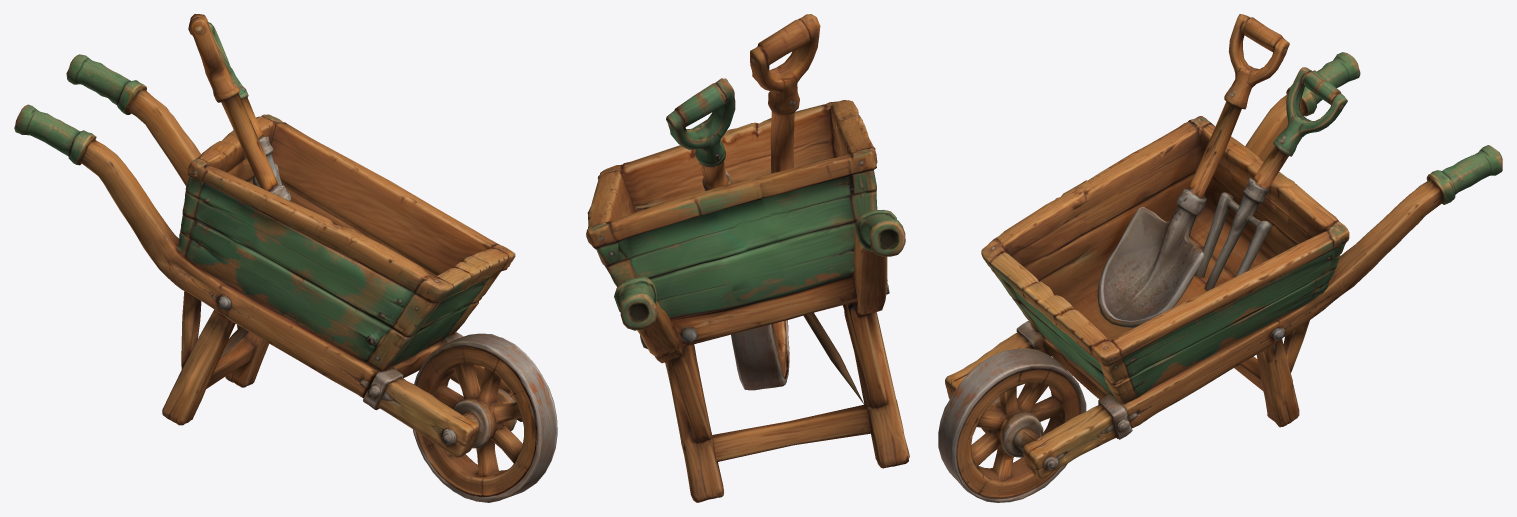
File: wheelbarrow.glb
The picture shows the model from 3 angles, left to right: view 1: azimuth 30°, elevation 25°; view 2: azimuth 150°, elevation 25°; view 3: azimuth 270°, elevation 25°; orthographic projection. The views are drawn at different scales.
Parts seen in each view (by area): view 1: tripo_node_cbbd5e0f-94f7-49c4-be6d-c32b477027c8; view 2: tripo_node_cbbd5e0f-94f7-49c4-be6d-c32b477027c8; view 3: tripo_node_cbbd5e0f-94f7-49c4-be6d-c32b477027c8.
Part boxes in pixels (x1=…): tripo_node_cbbd5e0f-94f7-49c4-be6d-c32b477027c8: x1=14, y1=14, x2=557, y2=502; tripo_node_cbbd5e0f-94f7-49c4-be6d-c32b477027c8: x1=586, y1=14, x2=909, y2=502; tripo_node_cbbd5e0f-94f7-49c4-be6d-c32b477027c8: x1=938, y1=14, x2=1502, y2=502.
Bounding box in the file's own units: 0.7142 × 0.7793 × 0.9785.
1 material, 1 textured.
